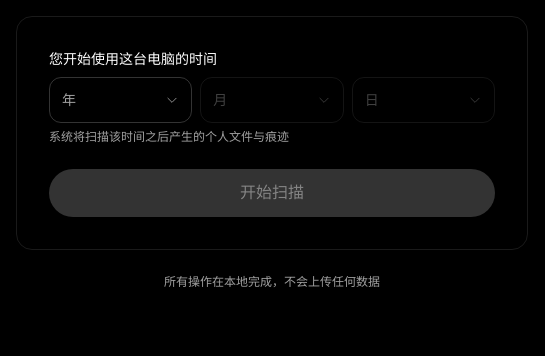
Test: InputPage › allows scanning with only year selected
Check: the button "开始扫描" is disabled, box [49,169,495,217]
Click the button "年".
click(121, 100)  # box [49,77,192,123]
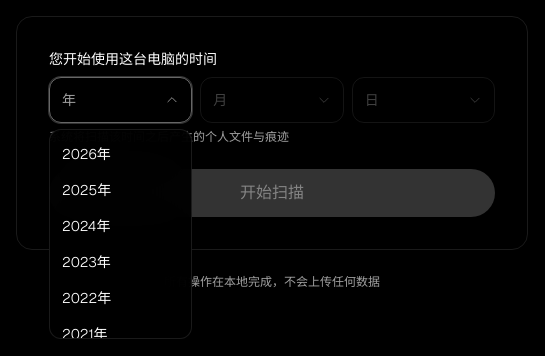
Click the button "2022年".
click(121, 298)  # box [50,280,191,316]
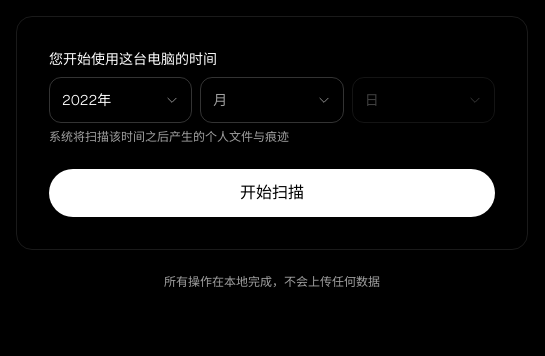
Check: the button "开始扫描" is enabled, box [49,169,495,217]
